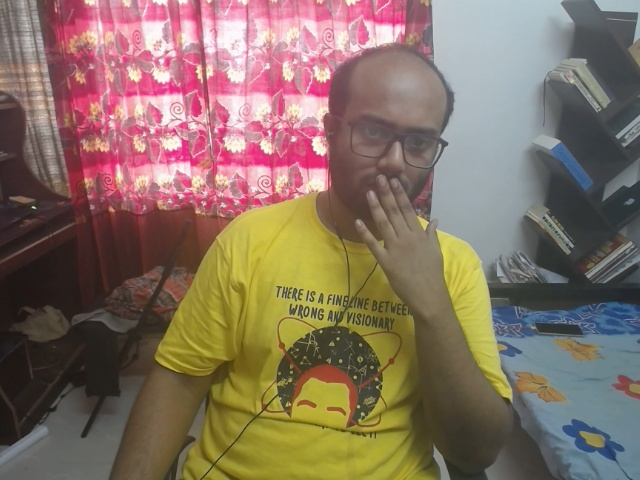five: (335, 170, 464, 306)
